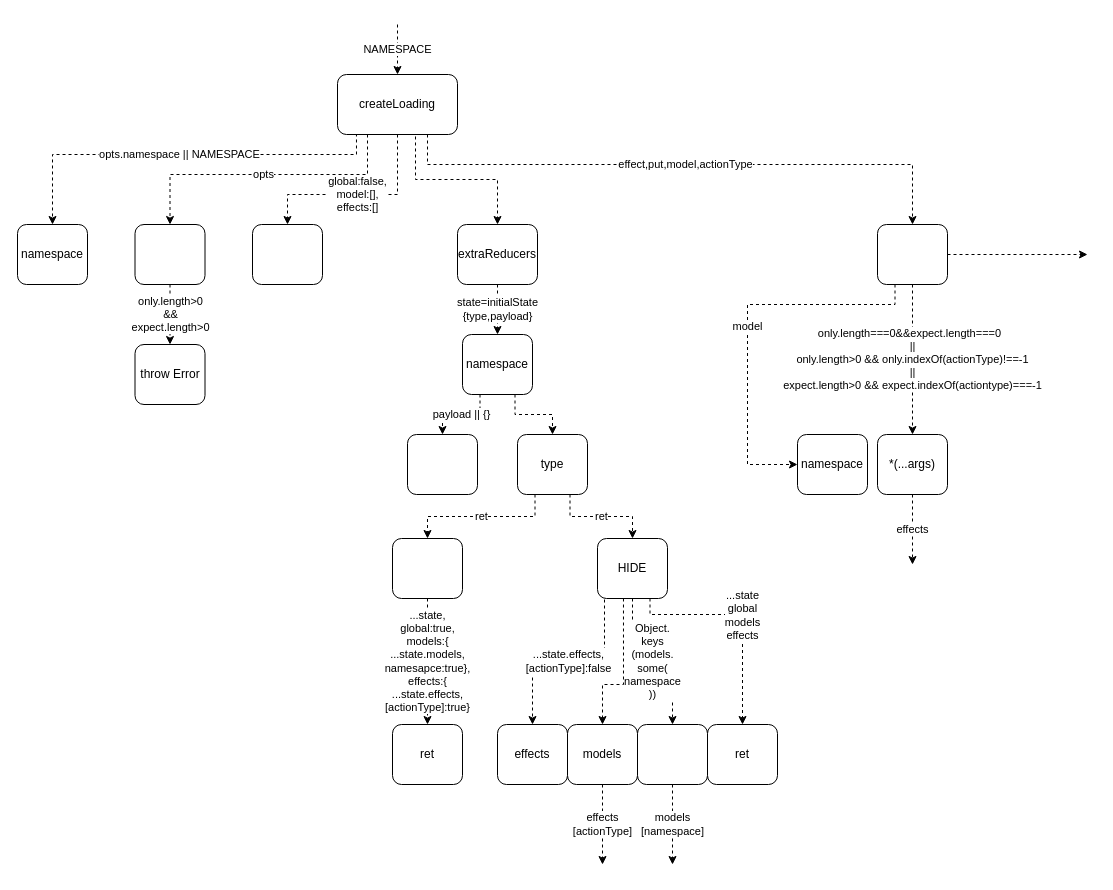
The diagram is 1113 pixels wide and 890 high, and some of its shapes have lost their labels. The box of each missing label's shape, as (x1, y1, x2, y2) in pixels:
global: (636, 724, 708, 784)
InitialState: (252, 224, 322, 284)
onEffect: (876, 224, 948, 284)
only=[], expect=[]: (134, 224, 205, 284)
SHOW: (392, 538, 462, 598)
{namespace, actionType}: (406, 434, 478, 494)
